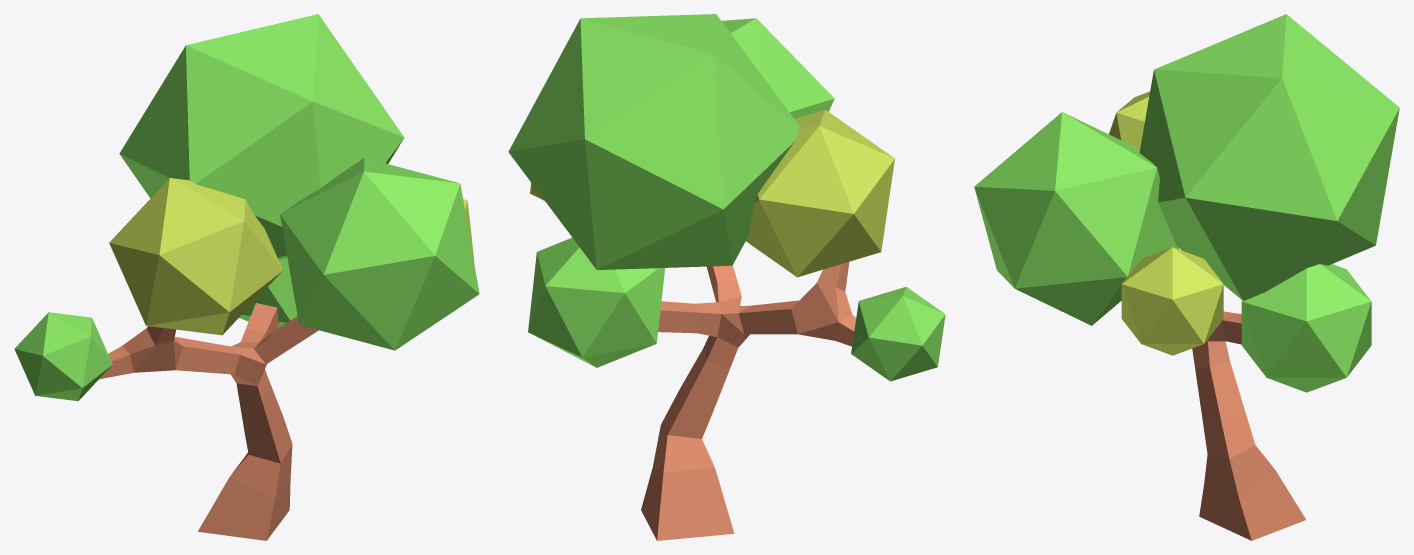
File: Tree 15.fbx
3 renders of one model, left to right at view 1: azimuth 30°, elevation 25°; view 2: azimuth 150°, elevation 25°; view 3: azimuth 270°, elevation 25°, orthographic. The views are drawn at different scales.
Parts seen in each view (by area): view 1: Tree 15; view 2: Tree 15; view 3: Tree 15.
Boxes of the visible parts, bbox=[...] form: Tree 15: bbox=[14, 14, 479, 540]; Tree 15: bbox=[508, 14, 945, 540]; Tree 15: bbox=[974, 14, 1399, 540].
Size of the model in its own units: 431 by 474 by 377.
